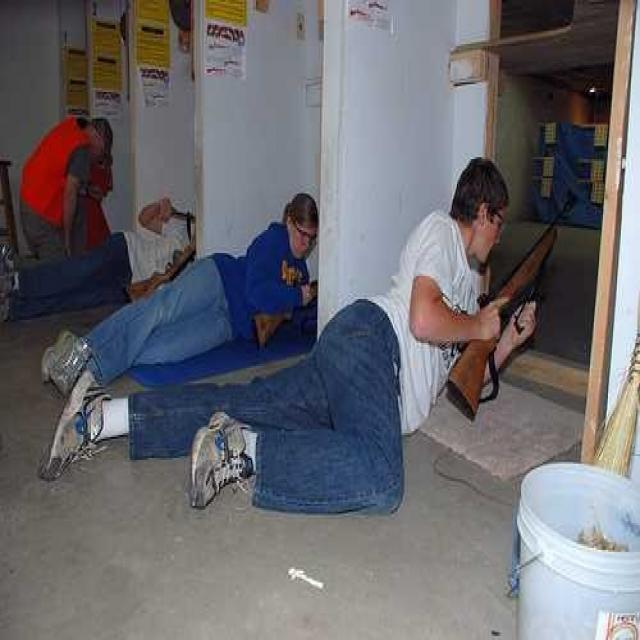weapon: (442, 168, 588, 432), (246, 280, 320, 360)
